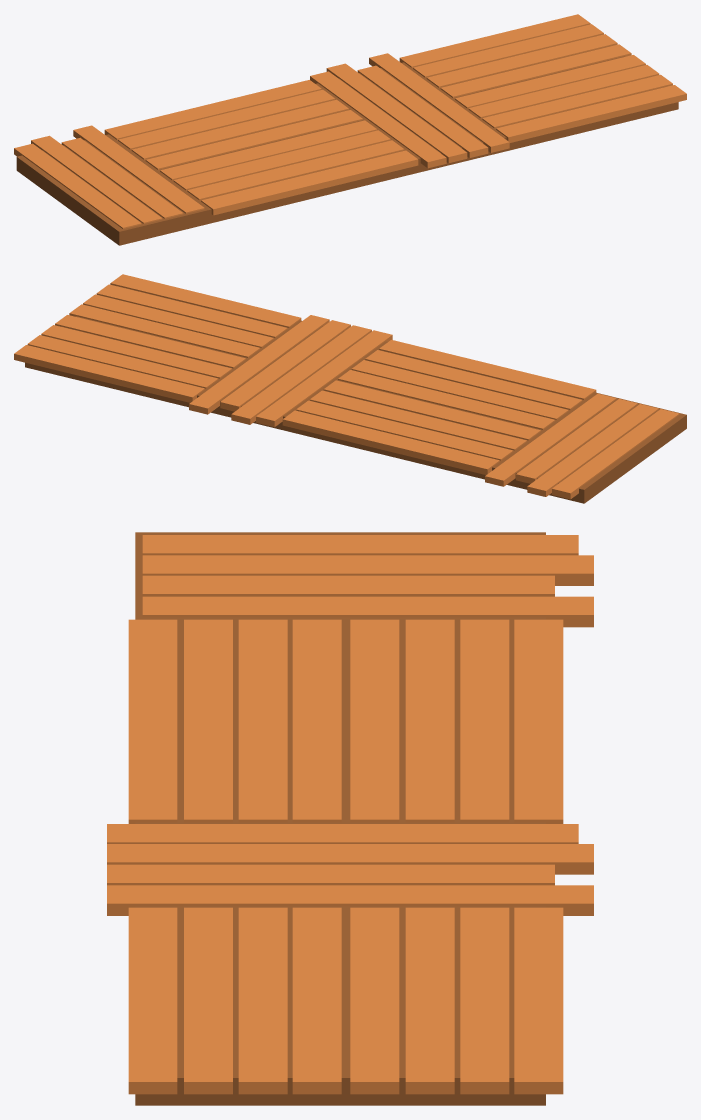
The model's file is Plataforma 02.fbx.
3 views of the same model, one above another, from view 1: azimuth 30°, elevation 25°; view 2: azimuth 150°, elevation 25°; view 3: azimuth 270°, elevation 25° (orthographic). The views are drawn at different scales.
Parts seen in each view (by area): view 1: Cube.001; view 2: Cube.001; view 3: Cube.001.
Part boxes in pixels (box(x1,y1,x2,y2)): Cube.001: box(14, 14, 686, 245); Cube.001: box(14, 274, 686, 503); Cube.001: box(107, 532, 593, 1105).
Bounding box in the file's own units: 1322 × 33.8 × 492.
